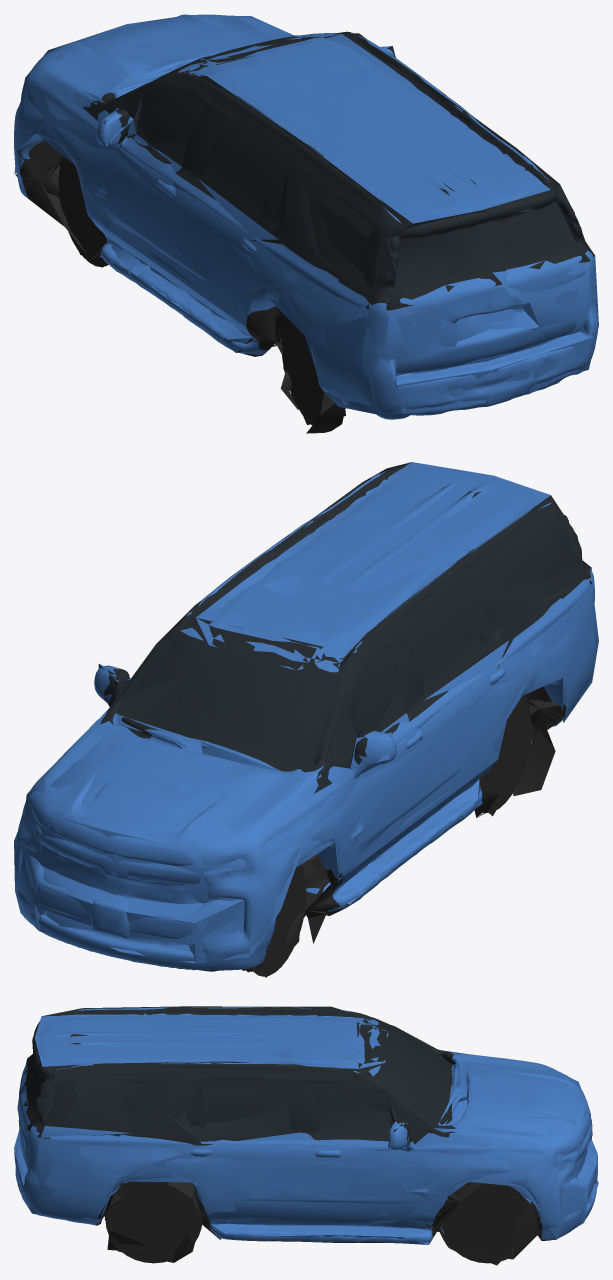
The model's file is gmc-yukon.glb.
3 renders of one model, top to bottom at view 1: azimuth 30°, elevation 25°; view 2: azimuth 150°, elevation 25°; view 3: azimuth 270°, elevation 25°, orthographic. The views are drawn at different scales.
Parts seen in each view (by area): view 1: body, far; view 2: body, far; view 3: body, far.
Boxes of the visible parts, x1,y1,x2,y2 form: body: [14, 14, 598, 433]; far: [14, 15, 598, 431]; body: [16, 467, 596, 976]; far: [14, 462, 598, 977]; body: [14, 1007, 597, 1263]; far: [14, 1006, 598, 1265].
Size of the model in its own units: 2.38 by 2.01 by 5.41.
